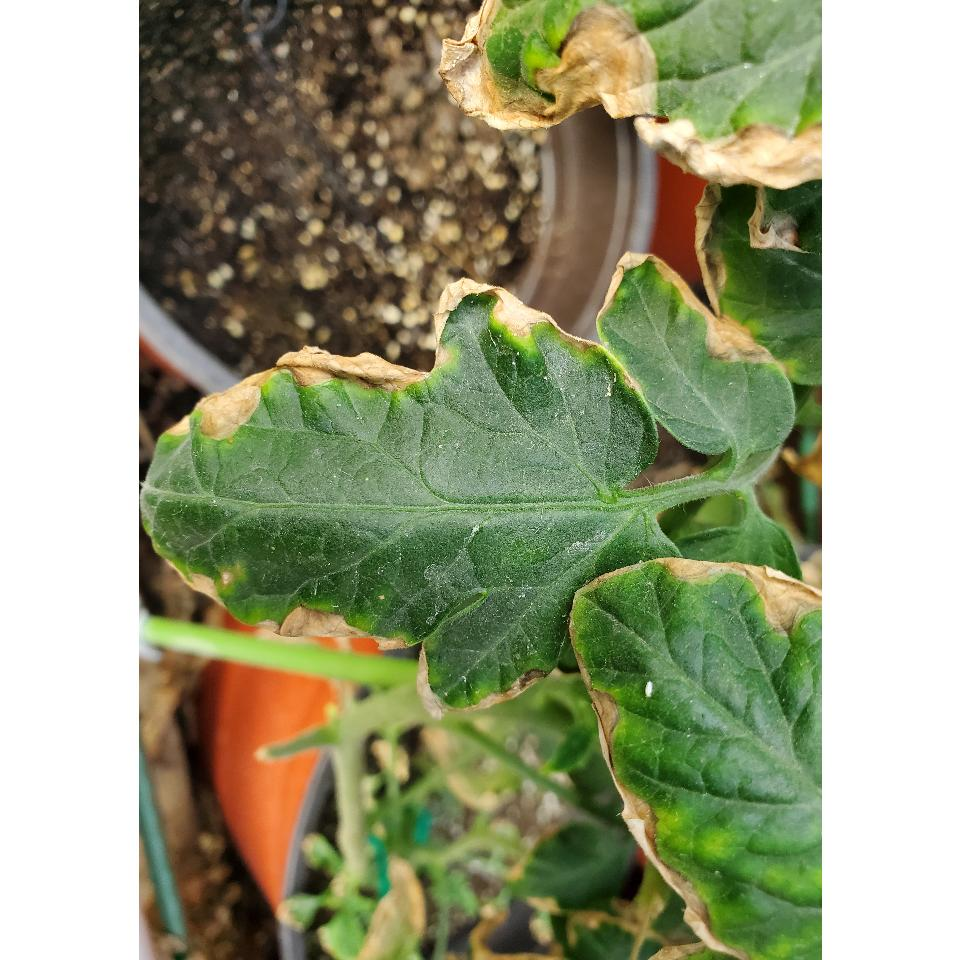tomato_bacterial_blight: (141, 275, 669, 717), (564, 544, 820, 960), (434, 0, 820, 200), (599, 244, 799, 470)
